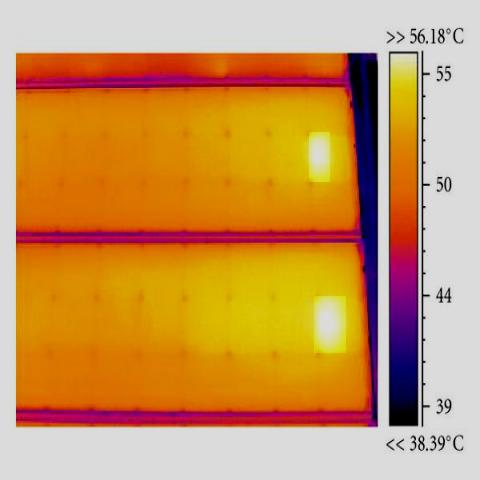fault: (314, 296, 346, 353), (309, 132, 330, 182)
